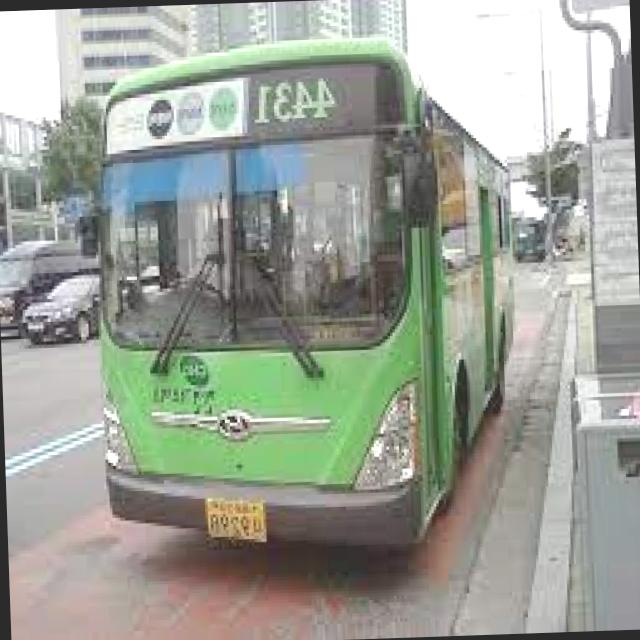bus-number: (250, 74, 339, 126)
